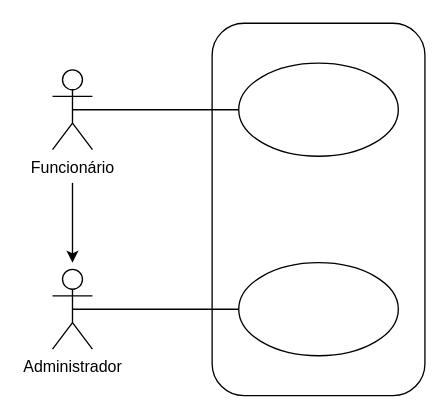
The diagram is 448 pixels wide and 419 high, and some of its shapes have lost their labels. Here are the shapes that lost their labels. From the top down, the centre of each, then its label:
[317,109]: Consultar Atendido
[317,308]: Alterar Atendido
